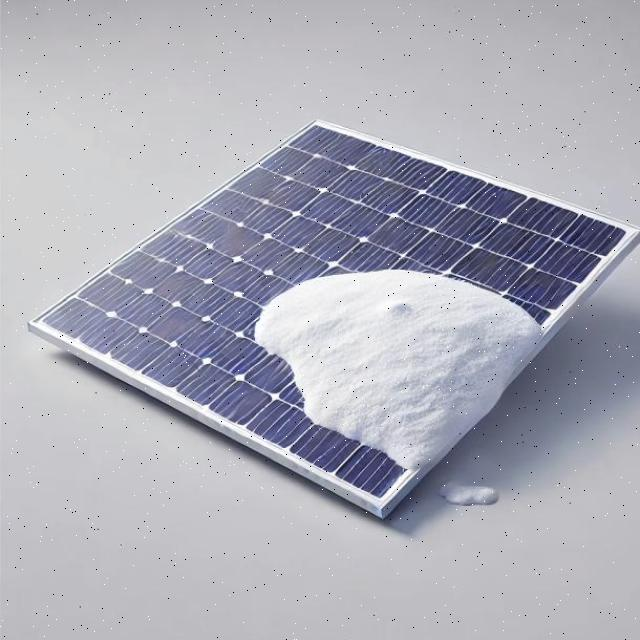Anomaly Solar Panel: (35, 0, 635, 578)
Snow: (225, 197, 550, 500)
